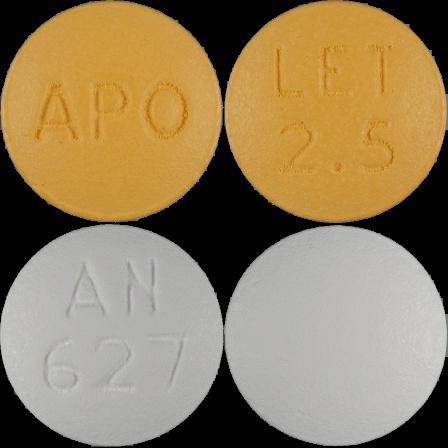68084-803: (0, 0, 224, 224)
